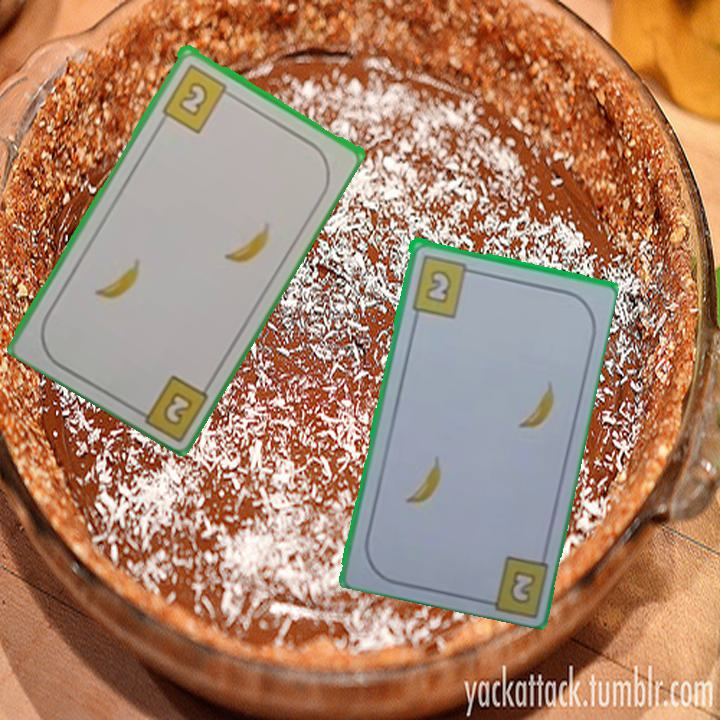2b: (158, 60, 237, 135), (407, 251, 479, 320), (159, 387, 196, 429), (505, 566, 539, 607)
